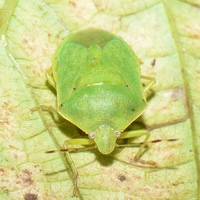insect: (39, 28, 185, 199), (46, 28, 146, 153), (123, 99, 162, 131), (86, 173, 133, 199)
